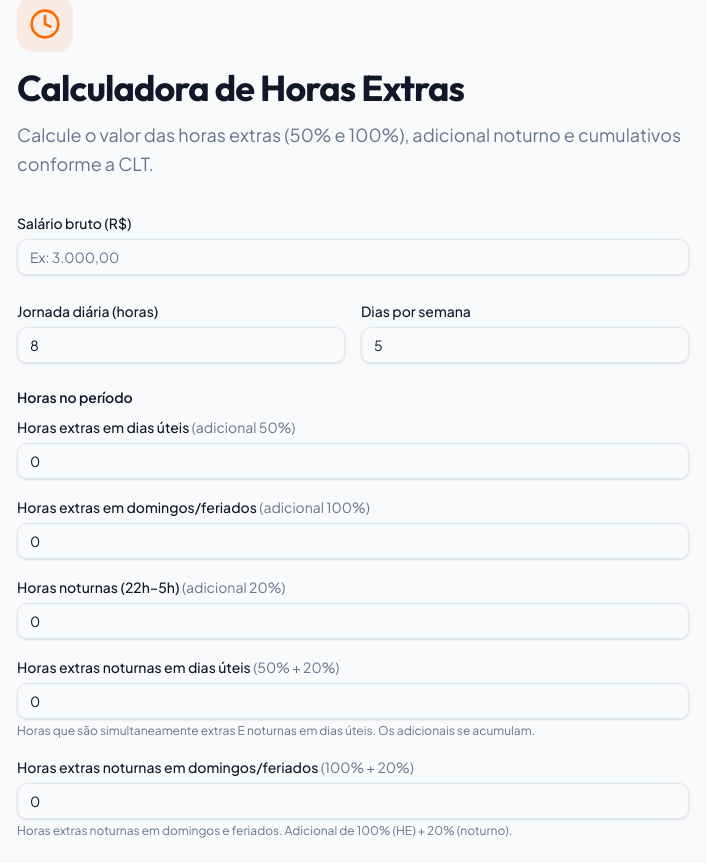
Test: HorasExtrasPage — resultado (Task 5.2) › edge case: todos os campos de horas em zero exibe total R$ 0,00
The width and height of the screenshot is (707, 863).
Type "3000" into the field labelled "Salário bruto (R$)". click: (353,256)
box: [17,238,689,274]
(page scrolled)
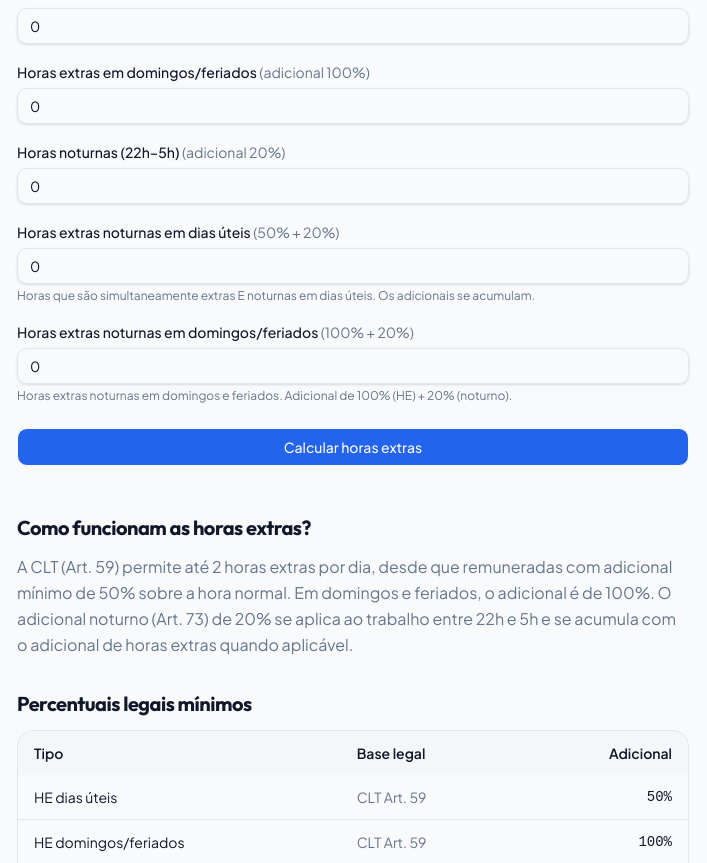
Click the button "Calcular horas extras". click: (353,446)
box: [17,428,689,466]
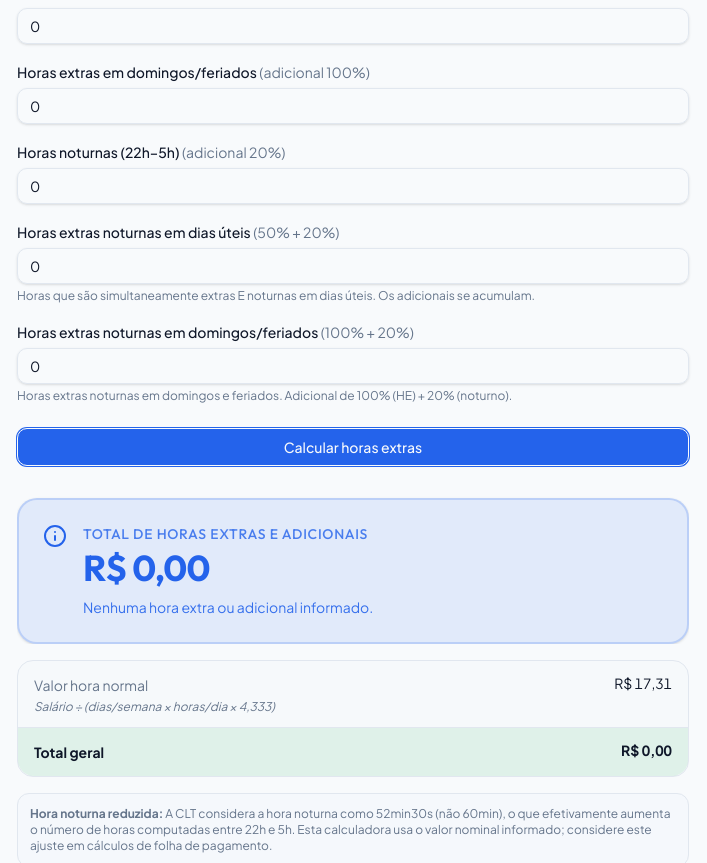
Check: the heading "Total de horas extras e adicionais" is shown, box [83,524,368,542]
Check: the text "R$ 0,00" below "Total de horas extras e adicionais" is shown, box [83,544,210,590]
